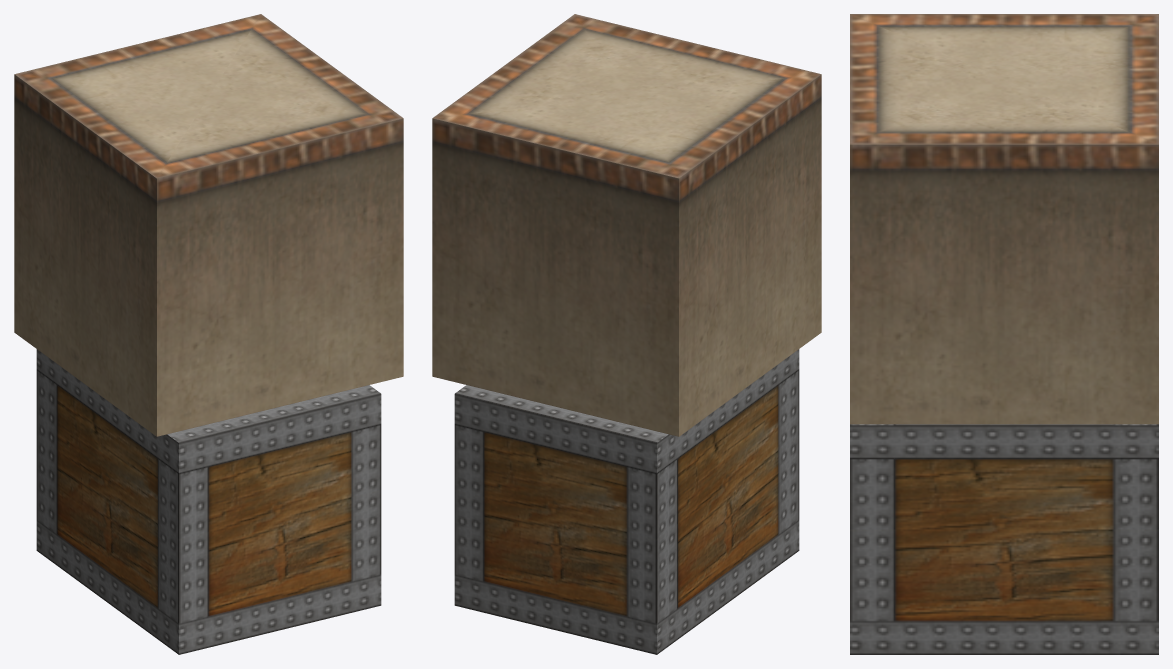
The model's file is P_Modul_34.FBX.
3 views of the same model, side by side, from view 1: azimuth 30°, elevation 25°; view 2: azimuth 150°, elevation 25°; view 3: azimuth 270°, elevation 25° (orthographic). The views are drawn at different scales.
Parts seen in each view (by area): view 1: P_Modul_34_Schiebestein, P_Modul_34_Kiste; view 2: P_Modul_34_Schiebestein, P_Modul_34_Kiste; view 3: P_Modul_34_Schiebestein, P_Modul_34_Kiste.
Part boxes in pixels (x1=…): P_Modul_34_Schiebestein: x1=14, y1=14, x2=403, y2=436; P_Modul_34_Kiste: x1=36, y1=349, x2=381, y2=654; P_Modul_34_Schiebestein: x1=432, y1=14, x2=821, y2=436; P_Modul_34_Kiste: x1=454, y1=349, x2=799, y2=654; P_Modul_34_Schiebestein: x1=850, y1=14, x2=1158, y2=424; P_Modul_34_Kiste: x1=850, y1=424, x2=1158, y2=654.
Size of the model in its own units: 5 by 9.33 by 5.
3 materials, 3 textured.
